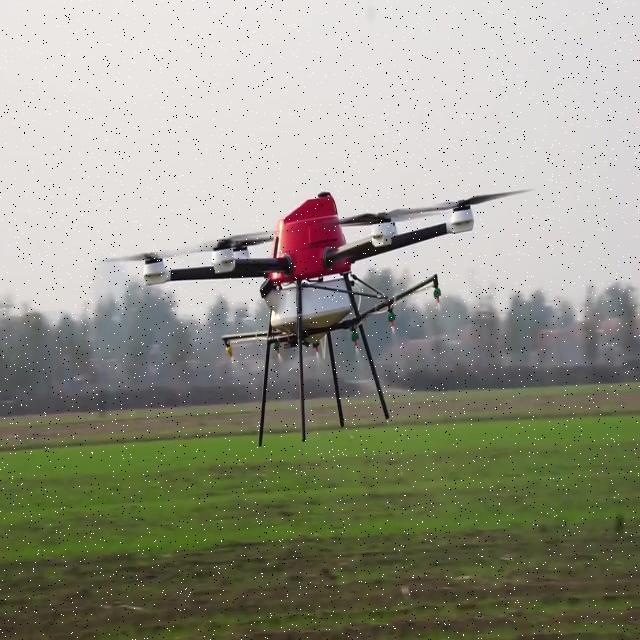UAV: (106, 188, 531, 450)
